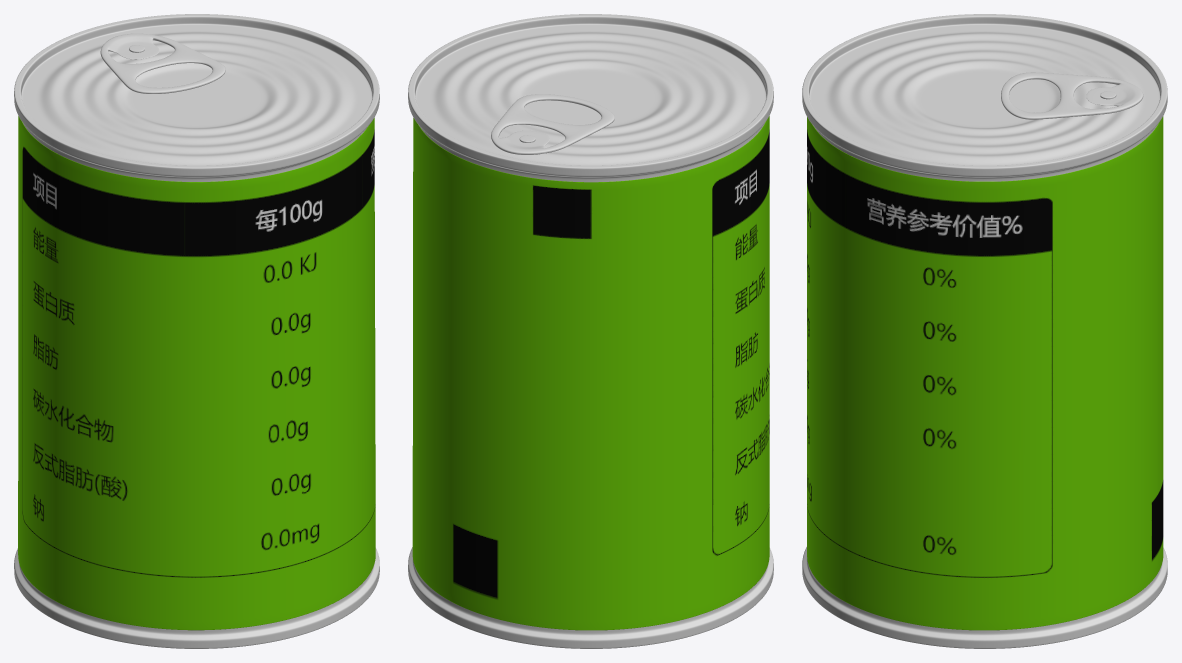
The model's file is pot.glb.
3 renders of one model, left to right at view 1: azimuth 30°, elevation 25°; view 2: azimuth 150°, elevation 25°; view 3: azimuth 270°, elevation 25°, orthographic.
Visible parts, largest first — view 1: 贴图, 罐体; view 2: 贴图, 罐体; view 3: 贴图, 罐体.
Part boxes in pixels (box(x1,y1,x2,y2)): 贴图: box(18, 116, 375, 630); 罐体: box(14, 14, 379, 648); 贴图: box(412, 116, 769, 630); 罐体: box(408, 14, 773, 648); 贴图: box(807, 116, 1163, 630); 罐体: box(802, 14, 1167, 648).
Bounding box in the file's own units: 100 × 145 × 100.
Materials: 2 (1 with a texture image).
